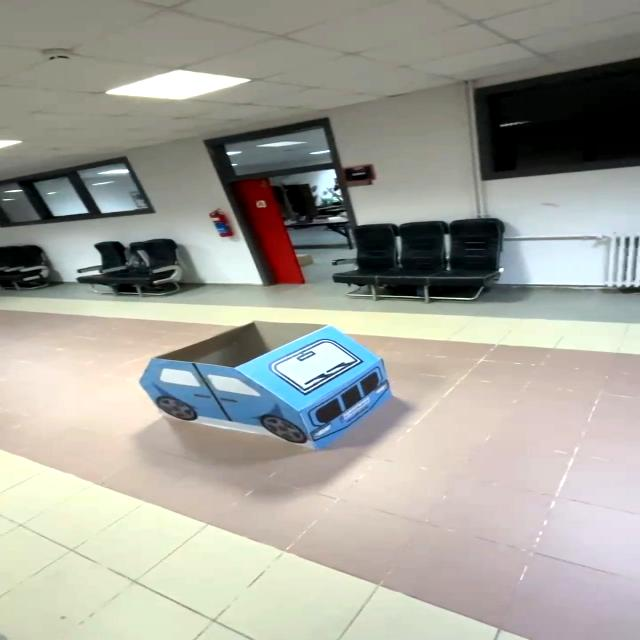blue_car: (107, 314, 421, 462)
